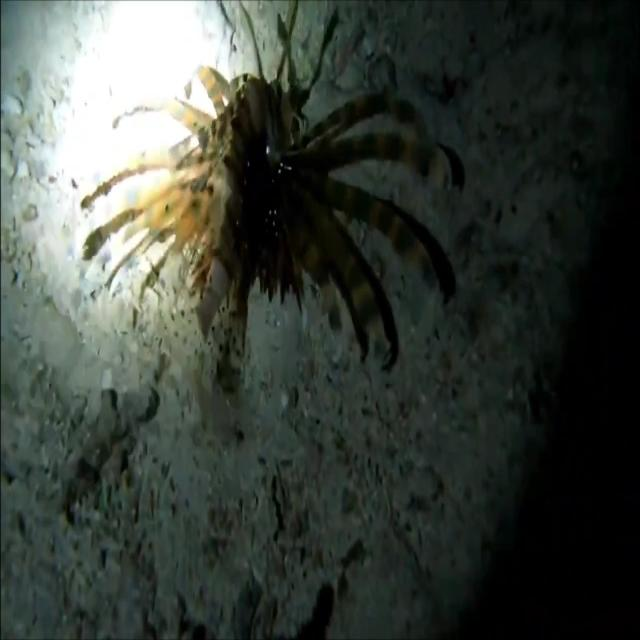Lionfish -Endangered- -Poisonous-: (81, 2, 450, 384)
